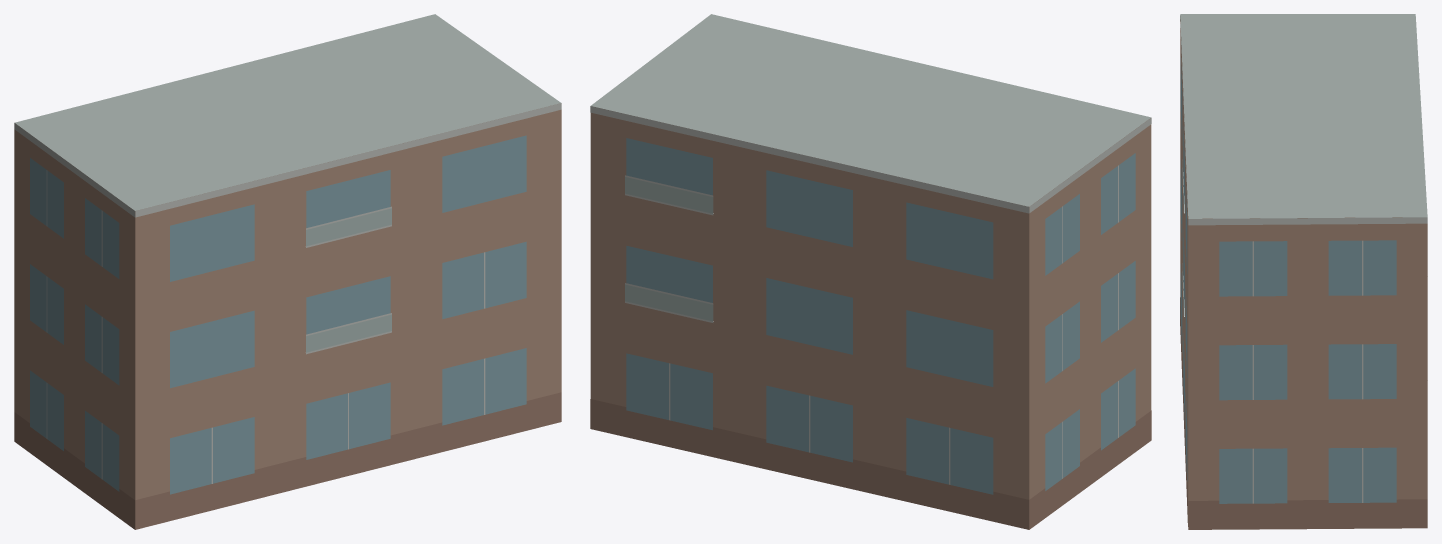
Rendered from survey-upis-32880737.glb.
3 renders of one model, left to right at view 1: azimuth 30°, elevation 25°; view 2: azimuth 150°, elevation 25°; view 3: azimuth 270°, elevation 25°, orthographic. The views are drawn at different scales.
Visible parts, largest first — view 1: survey-upis-32880737.tmp; view 2: survey-upis-32880737.tmp; view 3: survey-upis-32880737.tmp.
Boxes of the visible parts, x1,y1,x2,y2 form: survey-upis-32880737.tmp: (14, 14, 561, 529); survey-upis-32880737.tmp: (590, 14, 1151, 529); survey-upis-32880737.tmp: (1180, 14, 1427, 529).
Bounding box in the file's own units: 16.61 × 11.75 × 8.48.
